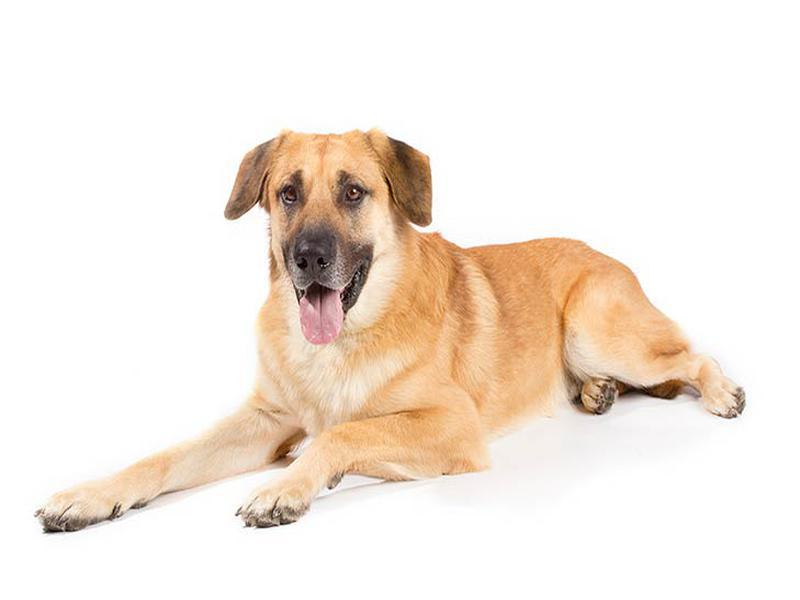dog: (28, 127, 751, 537)
